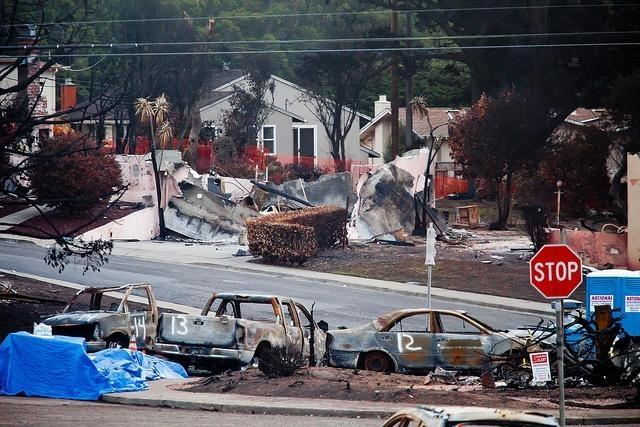car: (325, 308, 558, 380), (152, 294, 326, 376), (40, 283, 162, 354)
truck: (156, 294, 327, 374), (42, 283, 164, 353)
